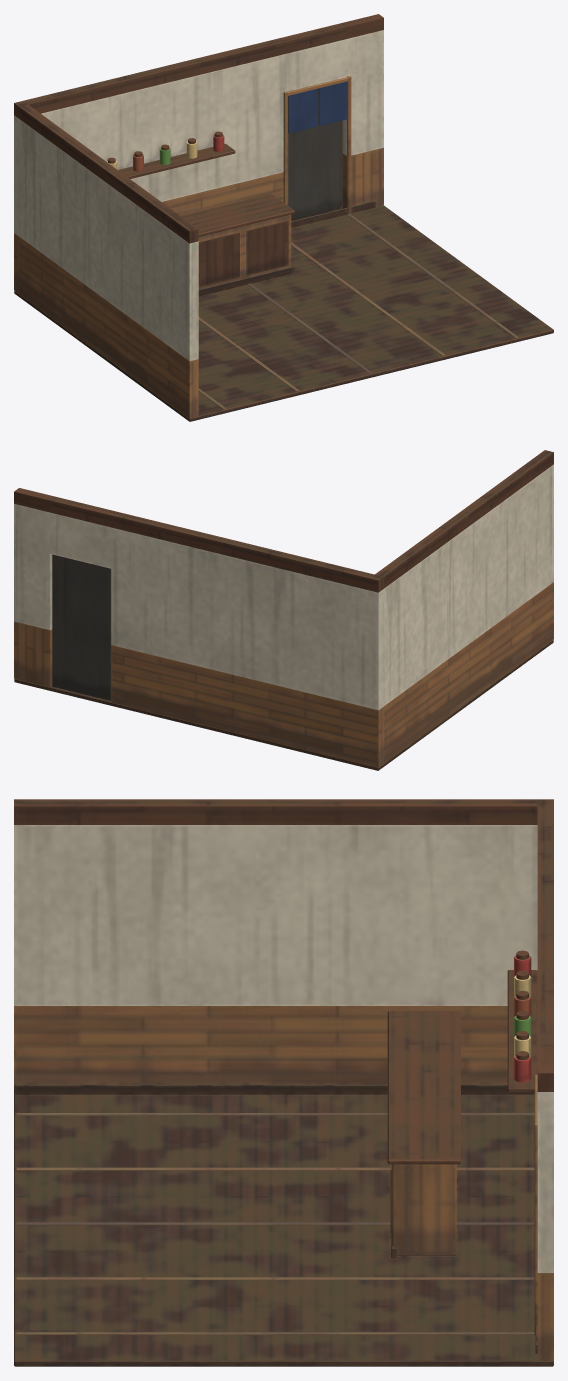
The model's file is tea_house_shell.glb.
3 renders of one model, top to bottom at view 1: azimuth 30°, elevation 25°; view 2: azimuth 150°, elevation 25°; view 3: azimuth 270°, elevation 25°, orthographic. The views are drawn at different scales.
Parts seen in each view (by area): view 1: tea_house_shell; view 2: tea_house_shell; view 3: tea_house_shell.
Part boxes in pixels (x1=…): tea_house_shell: x1=14, y1=14, x2=553, y2=421; tea_house_shell: x1=14, y1=450, x2=553, y2=770; tea_house_shell: x1=14, y1=799, x2=553, y2=1366.
Size of the model in its own units: 6 by 3 by 5.
9 materials, 8 textured.
